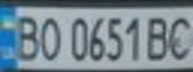0: (66, 12, 90, 62)
1: (121, 12, 145, 62)
5: (103, 12, 127, 63)
6: (84, 12, 109, 63)
B: (9, 11, 42, 62), (142, 12, 172, 62)
C: (163, 11, 193, 61)
O: (33, 12, 63, 62)
